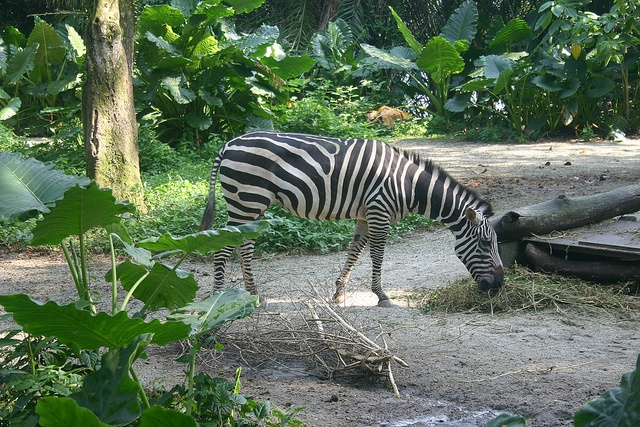zebra: (198, 130, 505, 309)
